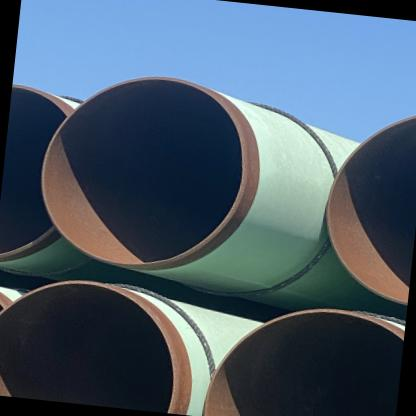clean: (172, 67, 230, 139)
